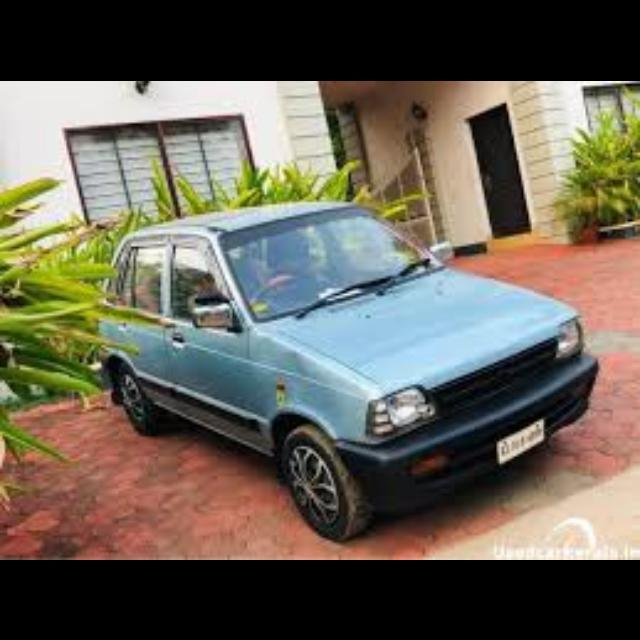number-plate: (493, 412, 549, 471)
vehicles: (83, 196, 598, 542)
